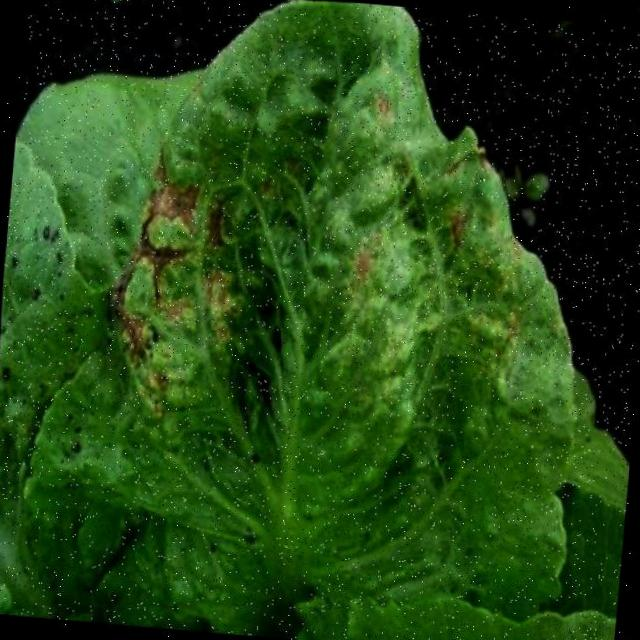Bacterial: (63, 88, 328, 469)
